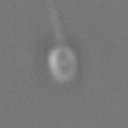normal: (43, 1, 68, 45)
